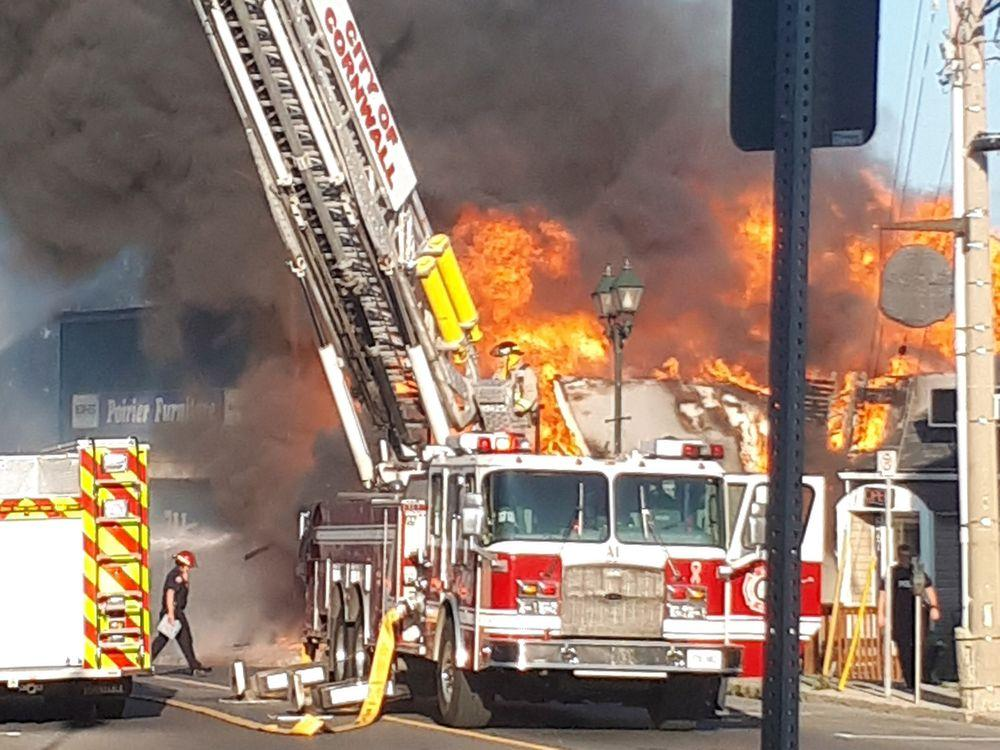Fire: (419, 177, 986, 449)
